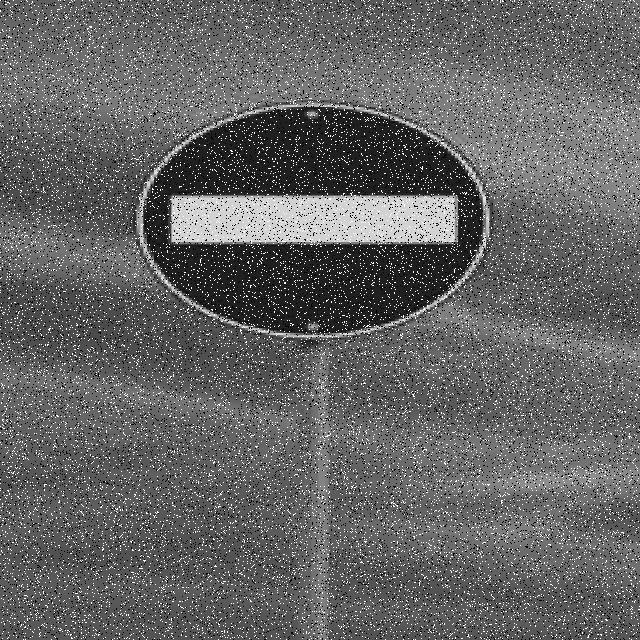no entry: (147, 107, 483, 333)
